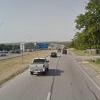Car: (29, 50, 57, 78)
